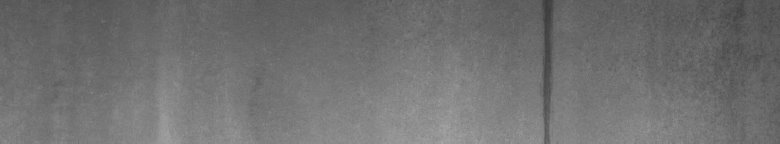hd: (537, 4, 559, 136)
